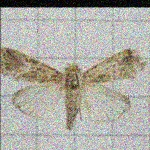Spodoptera litura: (0, 47, 148, 131)
